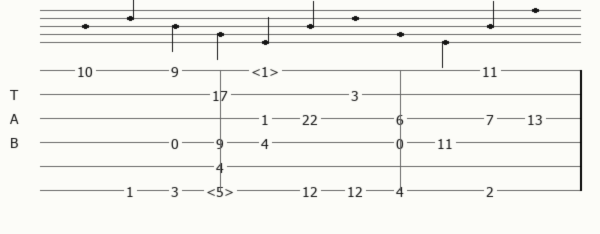0: (171, 135, 183, 149), (396, 135, 408, 149)
1: (126, 183, 138, 197), (261, 111, 273, 125)
10: (77, 63, 97, 77)
11: (437, 135, 457, 149), (482, 63, 502, 77)
12: (302, 183, 322, 197), (347, 183, 367, 197)
13: (527, 111, 547, 125)
17: (212, 87, 232, 101)
2: (486, 183, 498, 197)
22: (302, 111, 322, 125)
3: (171, 183, 183, 197), (351, 87, 363, 101)
4: (216, 159, 228, 173), (261, 135, 273, 149), (396, 183, 408, 197)
6: (396, 111, 408, 125)
7: (486, 111, 498, 125)
9: (171, 63, 183, 77), (216, 135, 228, 149)
harmonic: (206, 183, 238, 197), (251, 63, 283, 77)
